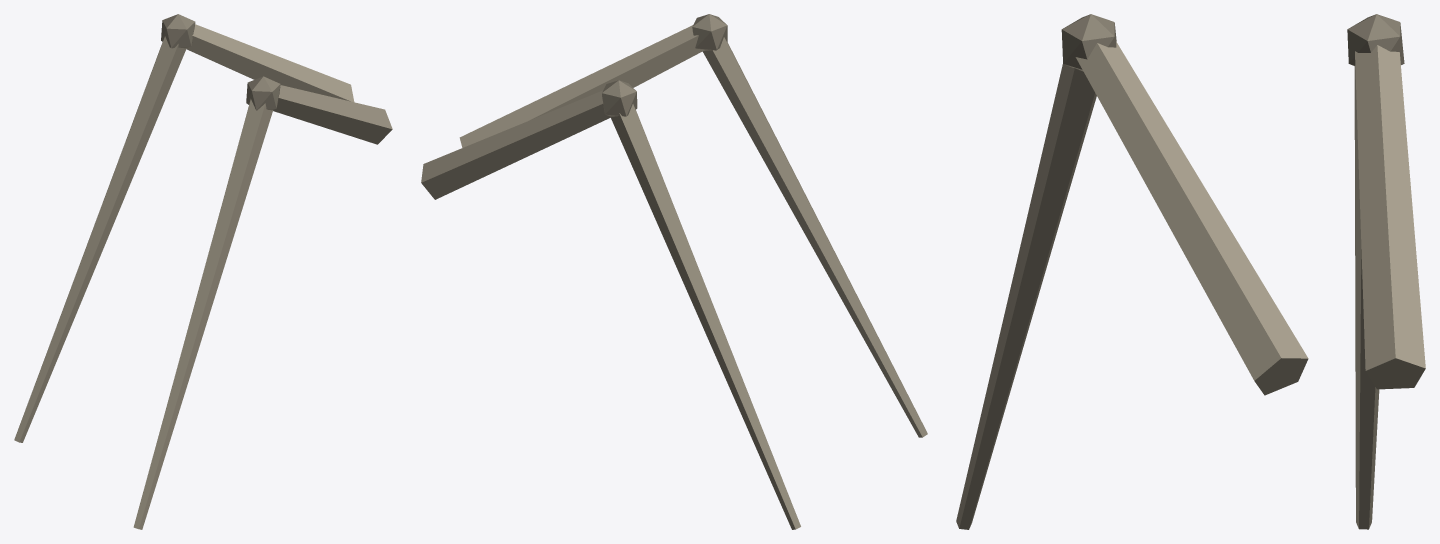
Rendered from spider_2_leg_fr.glb.
The picture shows the model from 3 angles, left to right: view 1: azimuth 30°, elevation 25°; view 2: azimuth 150°, elevation 25°; view 3: azimuth 270°, elevation 25°; orthographic projection. The views are drawn at different scales.
Visible parts, largest first — view 1: spider_2_leg_fr; view 2: spider_2_leg_fr; view 3: spider_2_leg_fr.
Part boxes in pixels (box(x1,y1,x2,y2)): spider_2_leg_fr: box(14, 14, 392, 529); spider_2_leg_fr: box(421, 14, 927, 529); spider_2_leg_fr: box(956, 14, 1425, 529).
Bounding box in the file's own units: 0.6335 × 0.6755 × 0.444.
